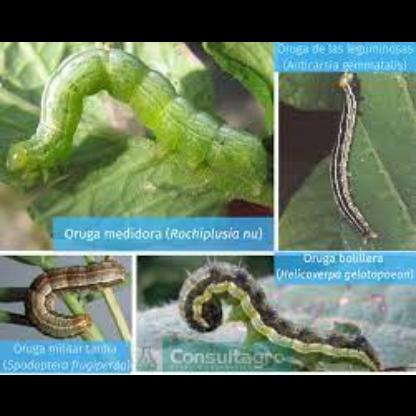oruga: (5, 52, 260, 196), (174, 260, 376, 350), (323, 73, 379, 237), (29, 258, 131, 340)
